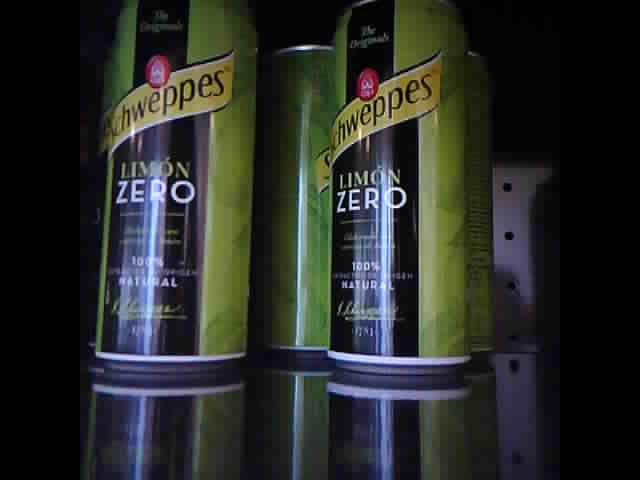schweppes: (93, 1, 260, 376), (326, 3, 476, 375), (265, 38, 337, 359)
